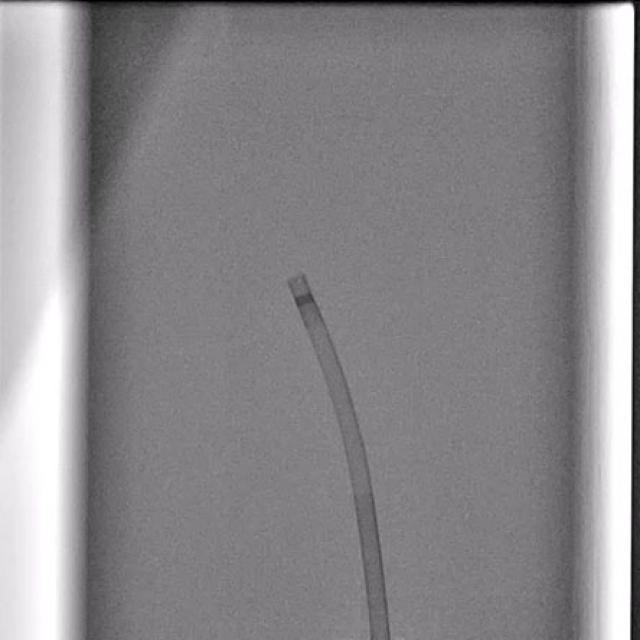bend: (352, 481, 372, 495)
entry: (371, 634, 389, 640)
marker: (294, 293, 316, 306)
tip: (286, 274, 307, 284)
